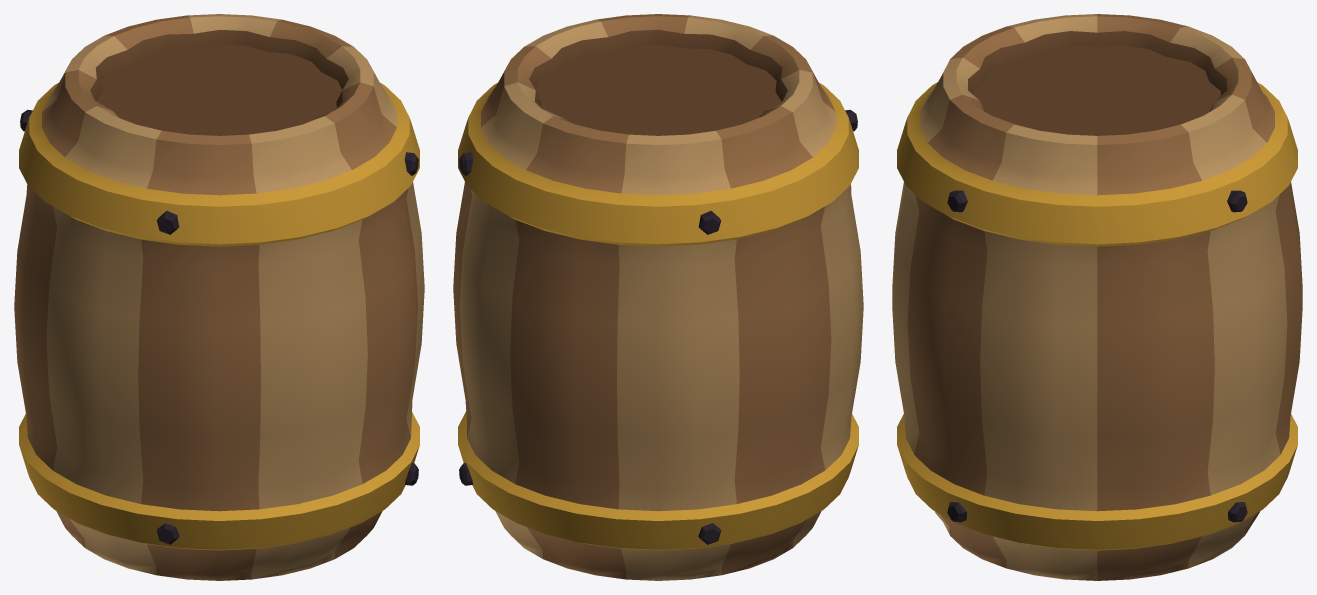
File: Barrel_15.glb
The picture shows the model from 3 angles, left to right: view 1: azimuth 30°, elevation 25°; view 2: azimuth 150°, elevation 25°; view 3: azimuth 270°, elevation 25°; orthographic projection.
Visible parts, largest first — view 1: Barrel_15; view 2: Barrel_15; view 3: Barrel_15.
Part boxes in pixels (<box>): Barrel_15: <box>14,14,424,580</box>; Barrel_15: <box>453,14,863,580</box>; Barrel_15: <box>892,14,1302,580</box>.
Bounding box in the file's own units: 2.1 × 2.54 × 2.13.
